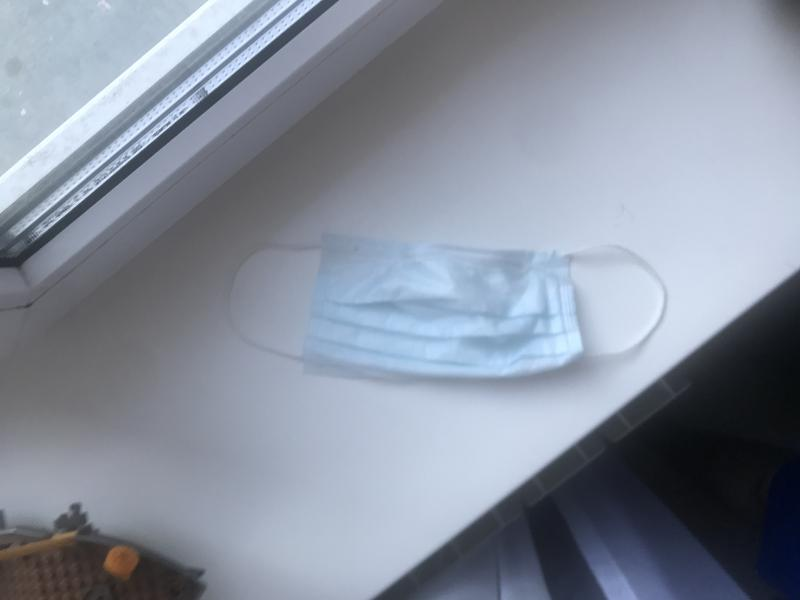medical_mask: (224, 230, 667, 379)
